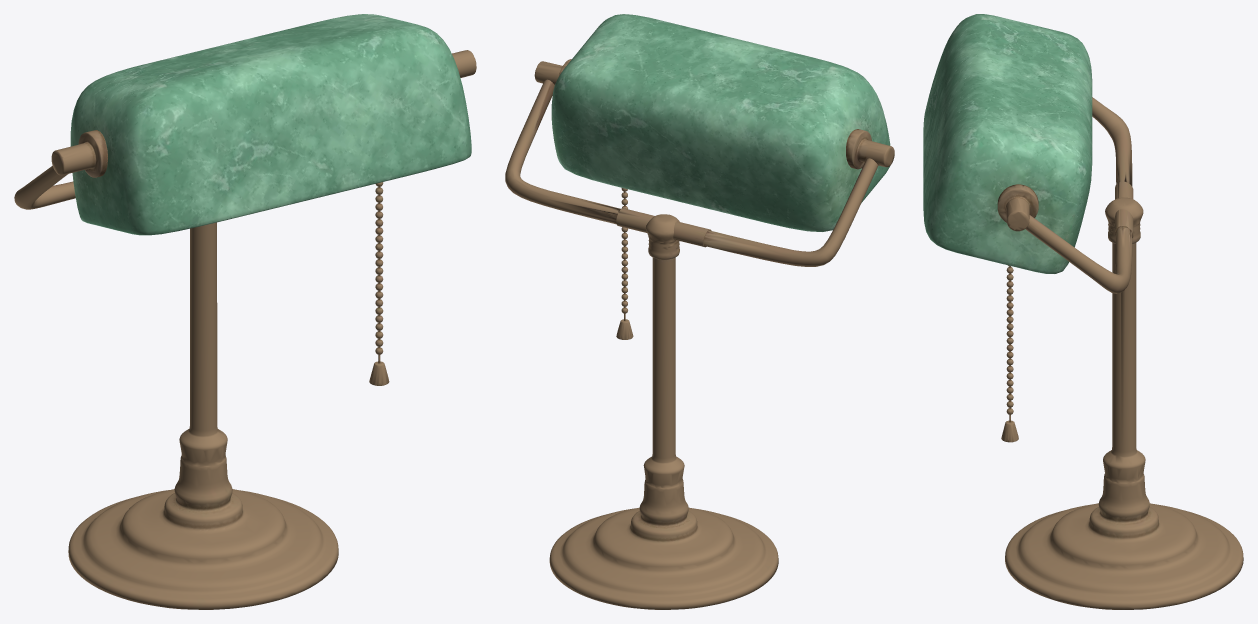
Rendered from desk-lamp.glb.
The picture shows the model from 3 angles, left to right: view 1: azimuth 30°, elevation 25°; view 2: azimuth 150°, elevation 25°; view 3: azimuth 270°, elevation 25°; orthographic projection. The views are drawn at different scales.
Visible parts, largest first — view 1: defaultMaterial; view 2: defaultMaterial; view 3: defaultMaterial.
Part boxes in pixels (x1=…): defaultMaterial: x1=14, y1=14, x2=476, y2=609; defaultMaterial: x1=505, y1=14, x2=894, y2=609; defaultMaterial: x1=923, y1=14, x2=1243, y2=609.
Bounding box in the file's own units: 0.3491 × 0.45 × 0.2653.
1 material, 1 textured.
